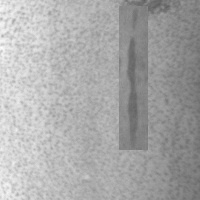inclusion: (119, 6, 148, 150)
pitted_surface: (1, 1, 197, 198)
